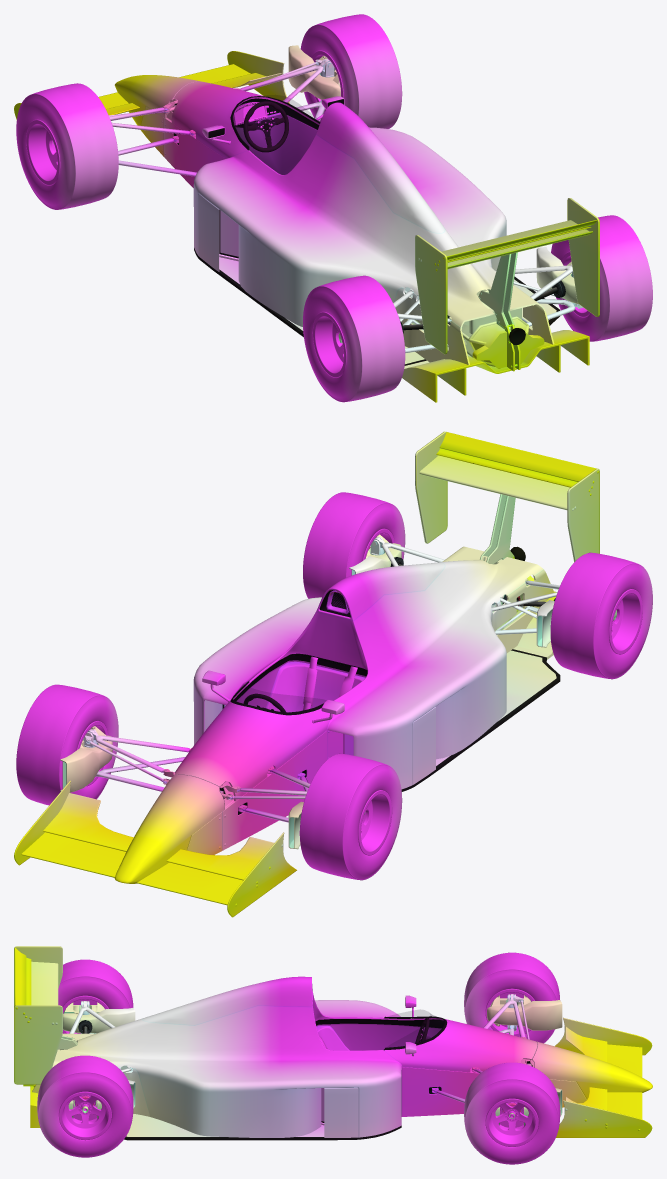
The model's file is formula.glb.
3 renders of one model, top to bottom at view 1: azimuth 30°, elevation 25°; view 2: azimuth 150°, elevation 25°; view 3: azimuth 270°, elevation 25°, orthographic. The views are drawn at different scales.
Visible parts, largest first — view 1: misc_d, chassis, wheel_lf, wheel_lr, misc_f, wheel_rf, wheel_rr, extra_4, extra_8, misc_c, misc_e, hub_rf (+9 smaller); view 2: misc_d, chassis, misc_f, misc_e, wheel_lf, wheel_lr, misc_c, wheel_rf, wheel_rr, extra_6, extra_8, extra_4 (+8 smaller); view 3: misc_d, wheel_rf, wheel_rr, chassis, misc_e, misc_f, misc_c, wheel_lf, extra_4, extra_6, wheel_lr, extra_8 (+7 smaller).
Boxes of the visible parts, bbox=[...] form: misc_d: bbox=[193, 127, 543, 327]; chassis: bbox=[109, 63, 571, 371]; wheel_lf: bbox=[16, 83, 118, 209]; wheel_lr: bbox=[303, 275, 405, 402]; misc_f: bbox=[415, 198, 599, 354]; wheel_rf: bbox=[300, 14, 402, 128]; wheel_rr: bbox=[551, 215, 652, 341]; extra_4: bbox=[316, 102, 444, 233]; extra_8: bbox=[194, 248, 589, 402]; misc_c: bbox=[171, 81, 344, 158]; misc_e: bbox=[14, 51, 289, 119]; hub_rf: bbox=[241, 45, 340, 120]; misc_d: bbox=[193, 546, 543, 789]; chassis: bbox=[91, 543, 559, 850]; misc_f: bbox=[415, 431, 599, 564]; misc_e: bbox=[14, 780, 296, 917]; wheel_lf: bbox=[299, 753, 402, 880]; wheel_lr: bbox=[550, 552, 652, 679]; misc_c: bbox=[174, 670, 344, 801]; wheel_rf: bbox=[16, 684, 118, 805]; wheel_rr: bbox=[303, 492, 405, 598]; extra_6: bbox=[114, 774, 224, 883]; extra_8: bbox=[401, 591, 560, 791]; extra_4: bbox=[316, 562, 444, 620]; misc_d: bbox=[52, 993, 402, 1137]; wheel_rf: bbox=[464, 1062, 560, 1164]; wheel_rr: bbox=[37, 1055, 133, 1157]; chassis: bbox=[23, 1003, 534, 1125]; misc_e: bbox=[555, 1017, 652, 1137]; misc_f: bbox=[14, 946, 77, 1084]; misc_c: bbox=[384, 995, 537, 1072]; wheel_lf: bbox=[464, 952, 559, 1043]; extra_4: bbox=[142, 976, 312, 1025]; extra_6: bbox=[532, 1041, 652, 1099]; wheel_lr: bbox=[58, 959, 133, 1033]; extra_8: bbox=[30, 1086, 401, 1140].
Bounding box in the file's own units: 2.11 × 0.9548 × 4.39.
23 materials, 9 textured.
